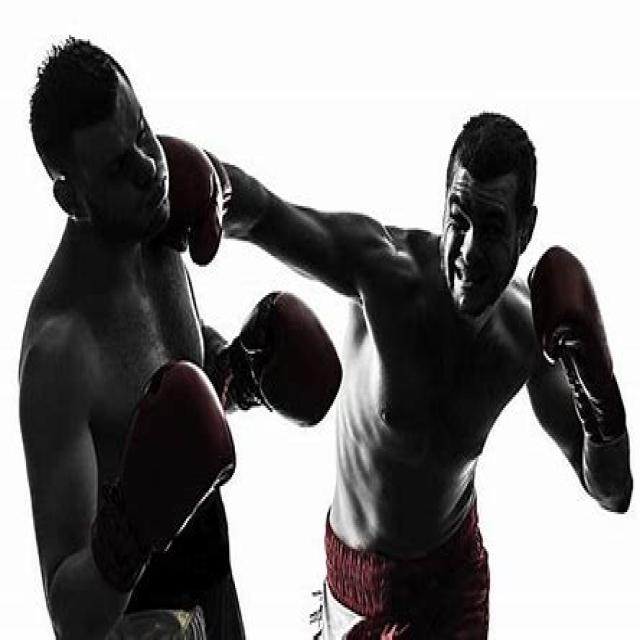fight: (15, 25, 604, 558)
